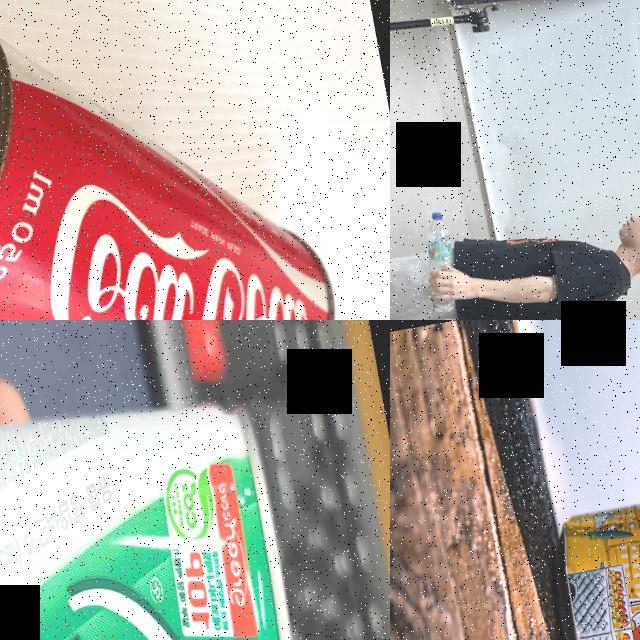bottle: (415, 208, 462, 314)
can: (0, 0, 353, 320), (0, 363, 325, 640), (540, 472, 640, 640)
